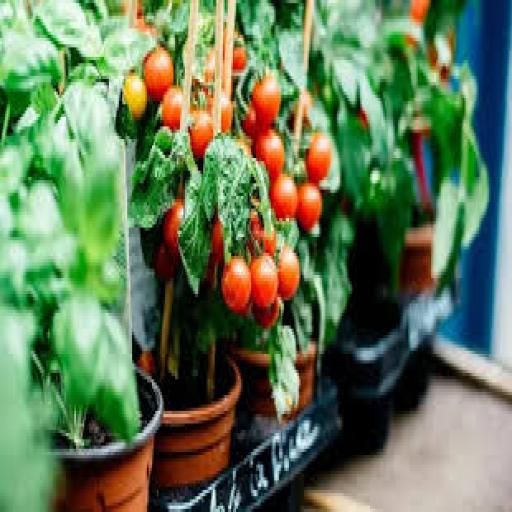tomato: (222, 256, 251, 312), (255, 130, 285, 183), (144, 48, 173, 101), (253, 73, 280, 126), (252, 253, 279, 306), (271, 174, 298, 221), (306, 133, 331, 183), (164, 200, 184, 262), (296, 184, 322, 230), (250, 212, 277, 255), (190, 111, 213, 158), (280, 247, 300, 300), (124, 73, 146, 120), (162, 86, 183, 129), (154, 244, 176, 281), (253, 298, 279, 328), (232, 32, 247, 72), (220, 92, 234, 132), (212, 219, 224, 265), (220, 92, 232, 132), (243, 105, 257, 139), (410, 0, 429, 25), (138, 351, 155, 376), (136, 16, 156, 37), (263, 228, 277, 255), (233, 45, 247, 72), (204, 48, 214, 85), (303, 89, 312, 126), (237, 136, 252, 158), (359, 108, 369, 129)
